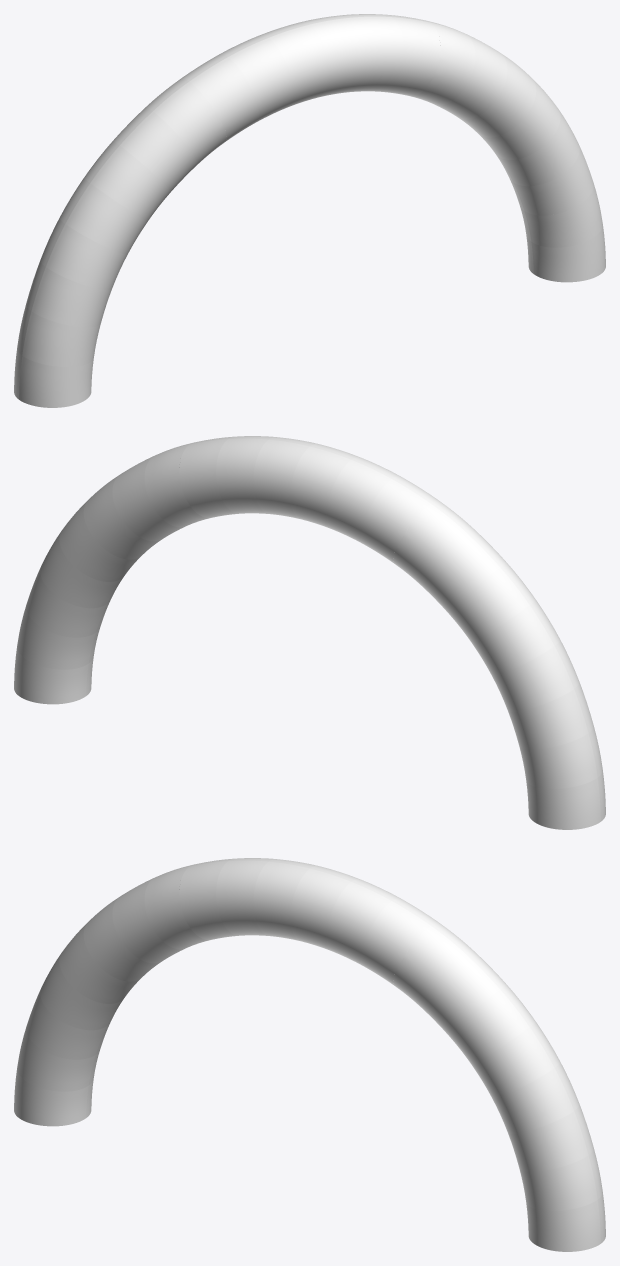
File: arco.obj
3 renders of one model, top to bottom at view 1: azimuth 30°, elevation 25°; view 2: azimuth 150°, elevation 25°; view 3: azimuth 330°, elevation 25°, orthographic.
Parts seen in each view (by area): view 1: Obj_000036, Obj_000032, Obj_000027, Obj_000030, Obj_000080, Obj_000025, Obj_000031, Obj_000029, Obj_000035, Obj_000028, Obj_000026, Obj_000044 (+10 smaller); view 2: Obj_000054, Obj_000065, Obj_000059, Obj_000062, Obj_000056, Obj_000057, Obj_000064, Obj_000061, Obj_000063, Obj_000060, Obj_000058, Obj_000075 (+10 smaller); view 3: Obj_000040, Obj_000051, Obj_000045, Obj_000048, Obj_000042, Obj_000043, Obj_000050, Obj_000047, Obj_000049, Obj_000046, Obj_000044, Obj_000026 (+10 smaller).
Part boxes in pixels (<box>): Obj_000036: <box>65,183,147,254</box>; Obj_000032: <box>90,145,170,221</box>; Obj_000027: <box>120,111,197,191</box>; Obj_000030: <box>46,224,127,289</box>; Obj_000080: <box>153,81,226,164</box>; Obj_000025: <box>31,267,111,327</box>; Obj_000031: <box>189,57,258,140</box>; Obj_000029: <box>22,311,100,366</box>; Obj_000035: <box>228,38,293,121</box>; Obj_000028: <box>19,356,93,407</box>; Obj_000026: <box>269,24,329,106</box>; Obj_000044: <box>310,17,366,96</box>; Obj_000054: <box>472,605,554,676</box>; Obj_000065: <box>449,567,529,643</box>; Obj_000059: <box>422,533,499,613</box>; Obj_000062: <box>492,646,573,711</box>; Obj_000056: <box>393,503,466,586</box>; Obj_000057: <box>508,689,588,749</box>; Obj_000064: <box>361,479,430,562</box>; Obj_000061: <box>519,733,597,788</box>; Obj_000063: <box>326,460,391,543</box>; Obj_000060: <box>526,778,600,829</box>; Obj_000058: <box>290,446,350,528</box>; Obj_000075: <box>253,439,309,518</box>; Obj_000040: <box>472,1027,554,1098</box>; Obj_000051: <box>449,989,529,1065</box>; Obj_000045: <box>422,955,499,1035</box>; Obj_000048: <box>492,1068,573,1133</box>; Obj_000042: <box>393,925,466,1008</box>; Obj_000043: <box>508,1111,588,1171</box>; Obj_000050: <box>361,901,430,984</box>; Obj_000047: <box>519,1155,597,1210</box>; Obj_000049: <box>326,882,391,965</box>; Obj_000046: <box>526,1200,600,1251</box>; Obj_000044: <box>290,868,350,950</box>; Obj_000026: <box>253,861,309,940</box>.
Size of the model in its own units: 788 by 394 by 90.59.
